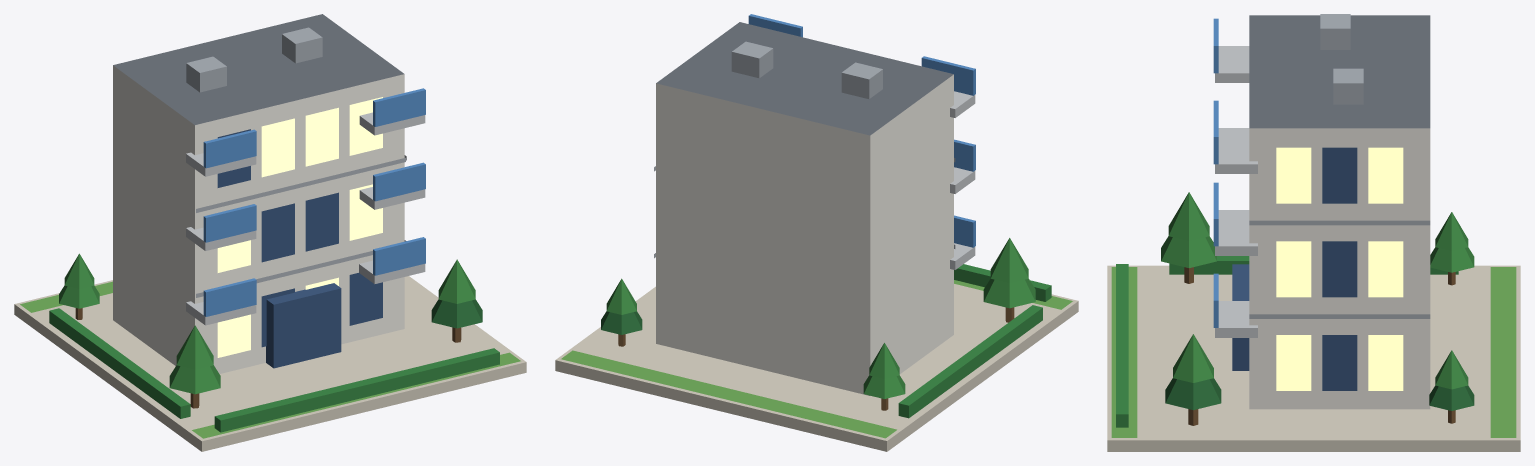
The picture shows the model from 3 angles, left to right: view 1: azimuth 30°, elevation 25°; view 2: azimuth 150°, elevation 25°; view 3: azimuth 270°, elevation 25°; orthographic projection. The views are drawn at different scales.
Visible parts, largest first — view 1: b06; view 2: b06; view 3: b06.
Part boxes in pixels (<box>): b06: <box>14,14,526,451</box>; b06: <box>555,14,1078,451</box>; b06: <box>1107,14,1520,451</box>.
Size of the model in its own units: 0.96 by 0.805 by 0.96.
